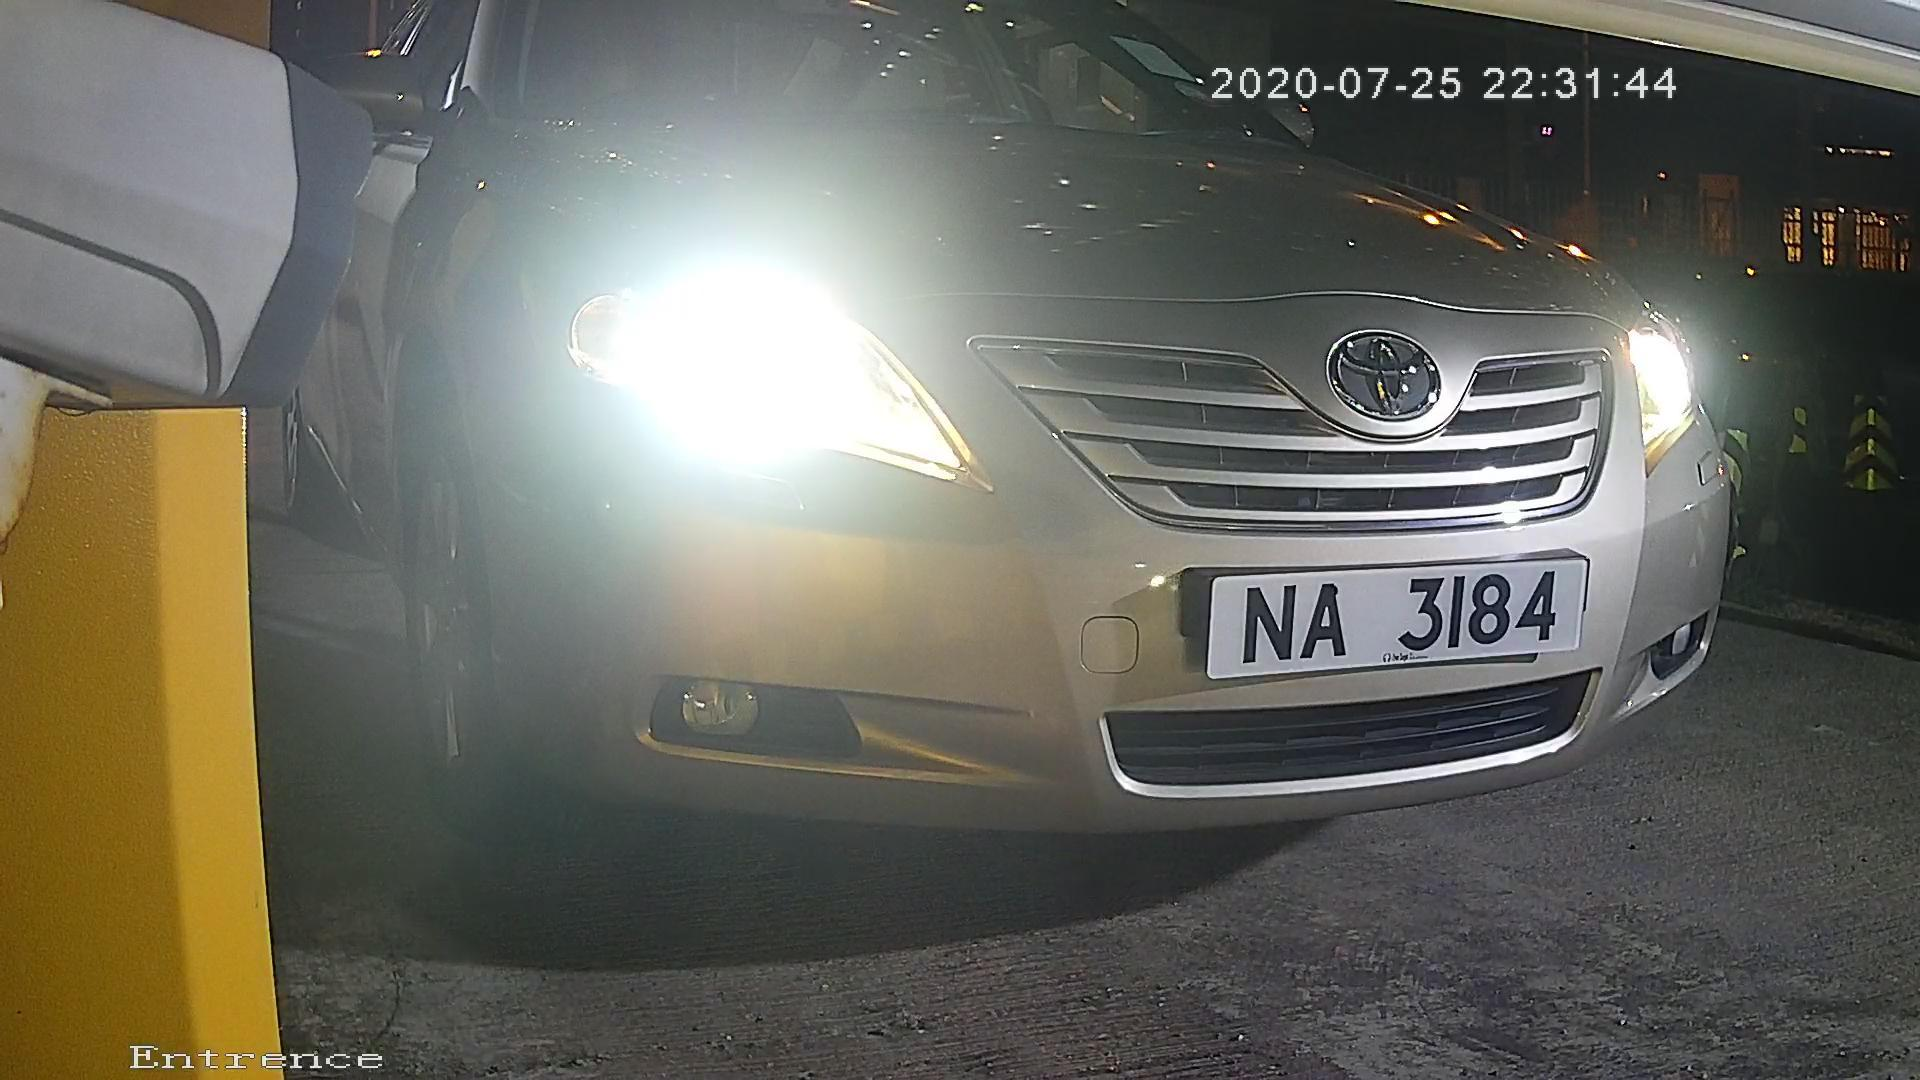privatecar: (446, 5, 1775, 858)
